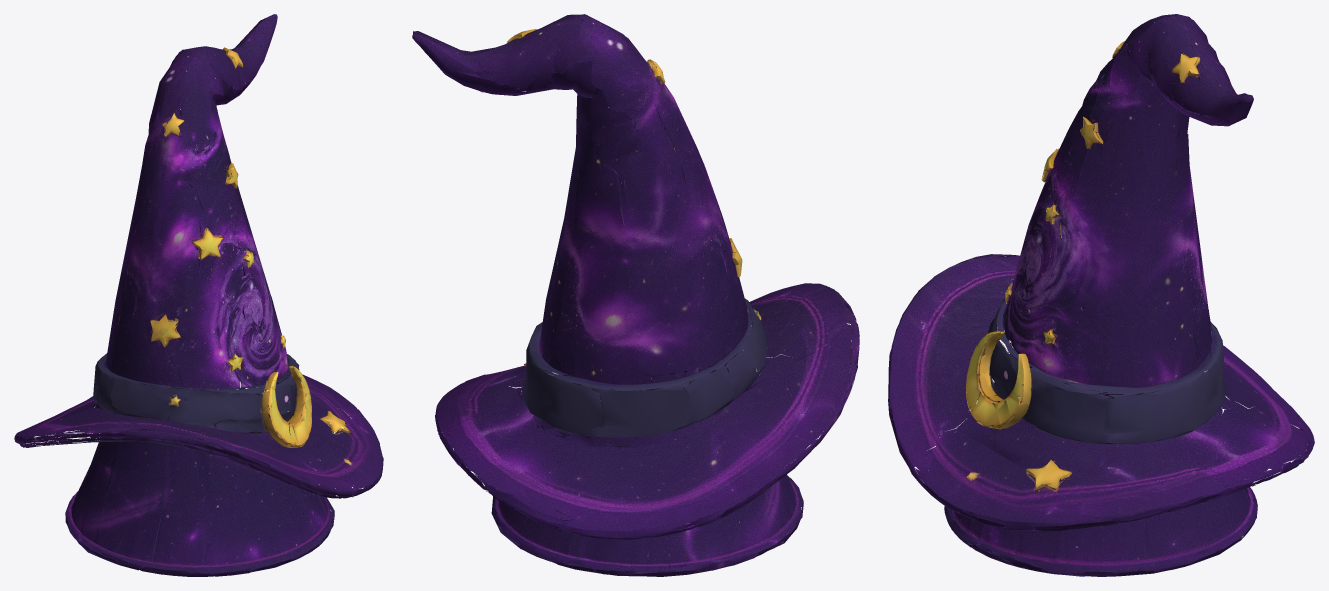
The model's file is penyihir_galaksi.fbx.
The picture shows the model from 3 angles, left to right: view 1: azimuth 30°, elevation 25°; view 2: azimuth 150°, elevation 25°; view 3: azimuth 270°, elevation 25°; orthographic projection. The views are drawn at different scales.
Parts seen in each view (by area): view 1: PenyihirHat; view 2: PenyihirHat; view 3: PenyihirHat.
Boxes of the visible parts, x1,y1,x2,y2 form: PenyihirHat: (14,14,383,576); PenyihirHat: (412,14,859,576); PenyihirHat: (888,14,1314,576).
Size of the model in its own units: 2.6 by 3.41 by 2.57.
1 material, 1 textured.
